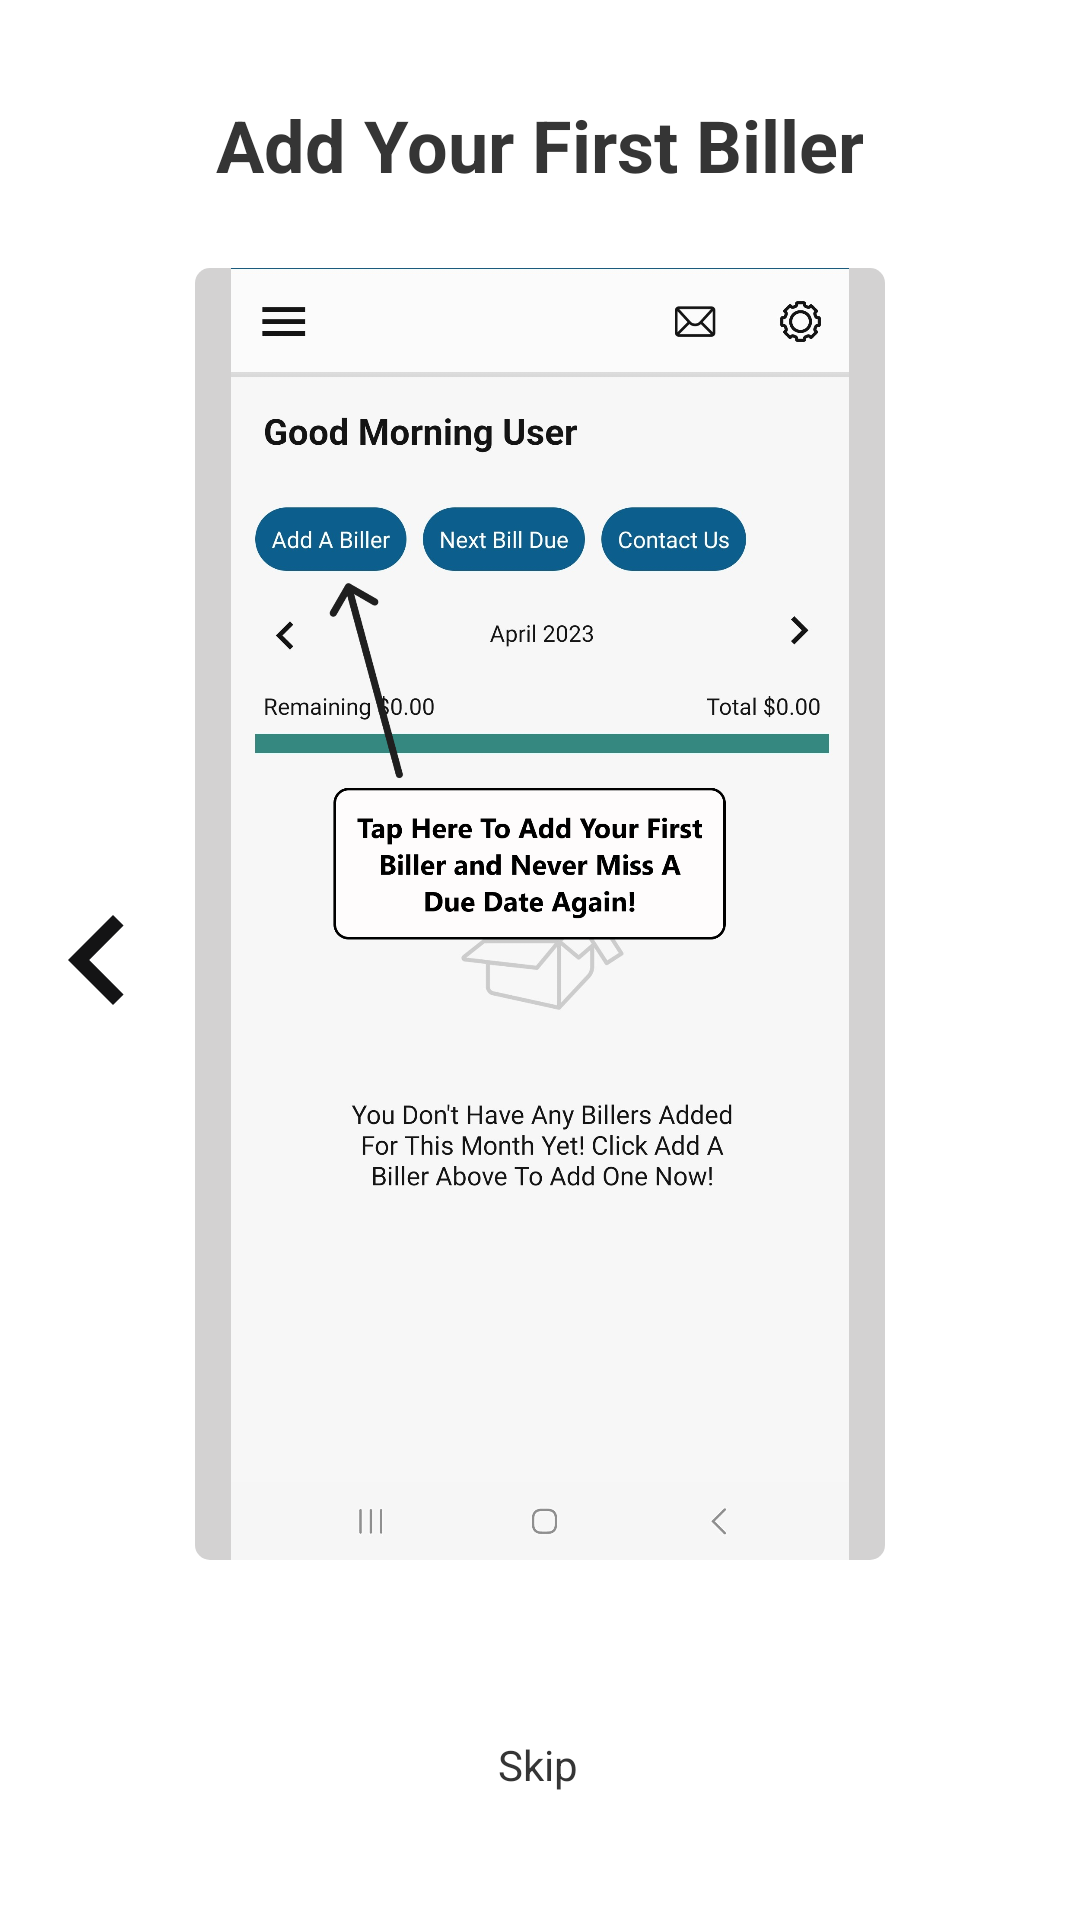

Screen size 1080×1920. Icon name, then its center in pixels as [x,y]:
Back Arrow: [96,960]
